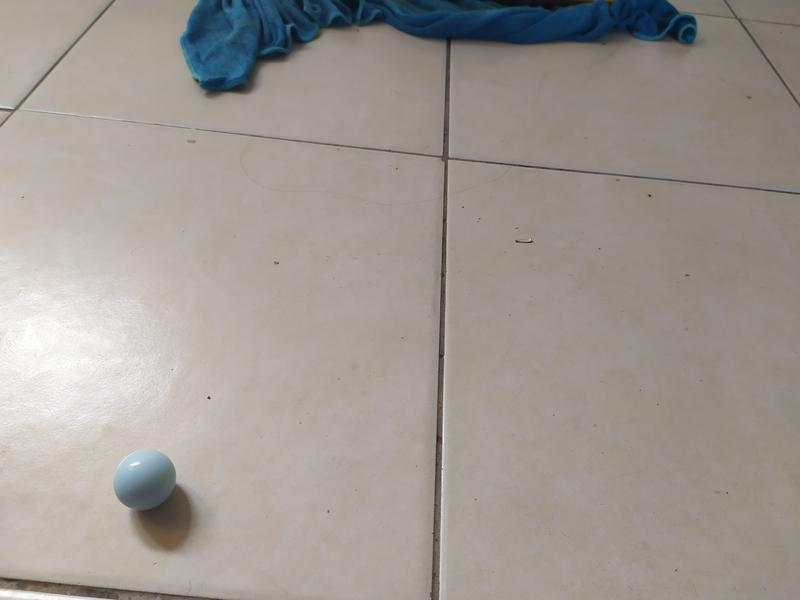Warning: (110, 446, 180, 514)
